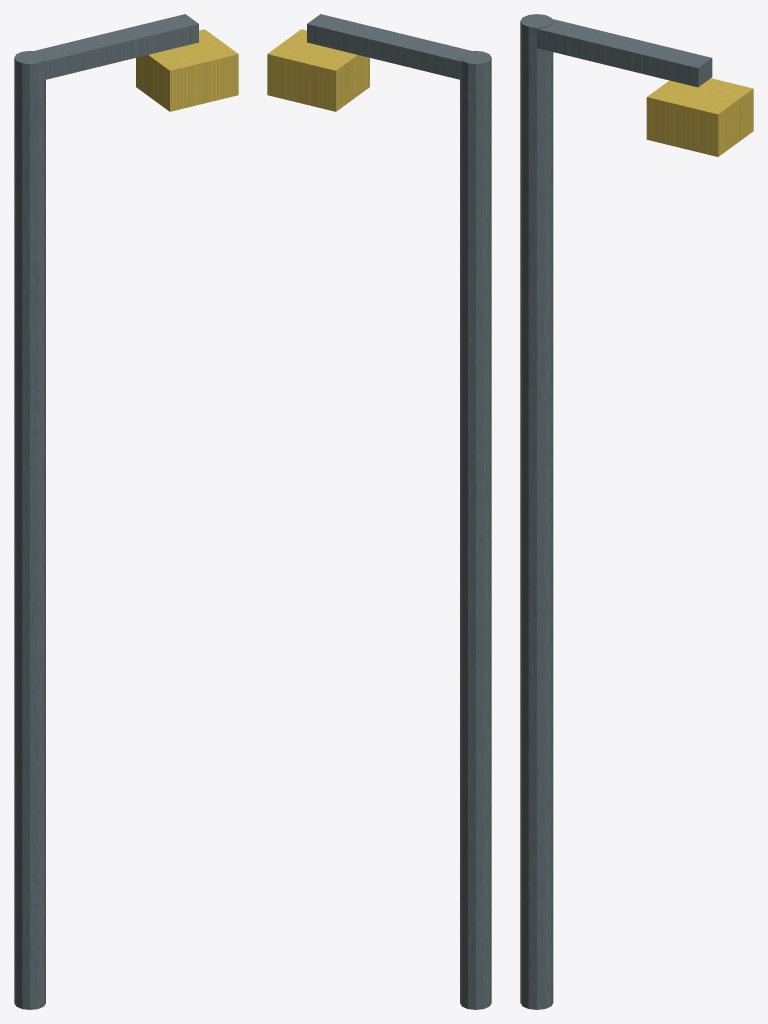
File: lamp_post_lod1.glb
3 views of the same model, side by side, from view 1: azimuth 30°, elevation 25°; view 2: azimuth 150°, elevation 25°; view 3: azimuth 330°, elevation 25° (orthographic). The views are drawn at different scales.
Parts seen in each view (by area): view 1: world; view 2: world; view 3: world.
Boxes of the visible parts, x1,y1,x2,y2 form: world: [14, 14, 238, 1009]; world: [267, 14, 491, 1009]; world: [520, 14, 753, 1009].
Size of the model in its own units: 1.05 by 4.6 by 0.3.
3 materials, 3 textured.
